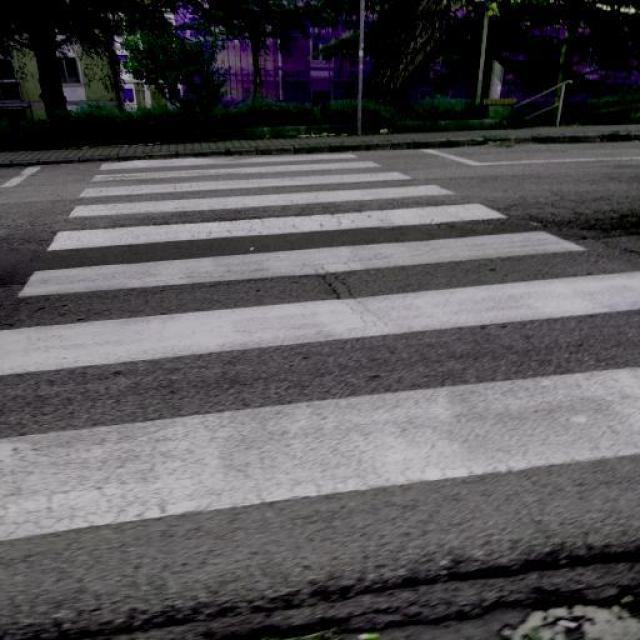crosswalk: (3, 148, 640, 540)
